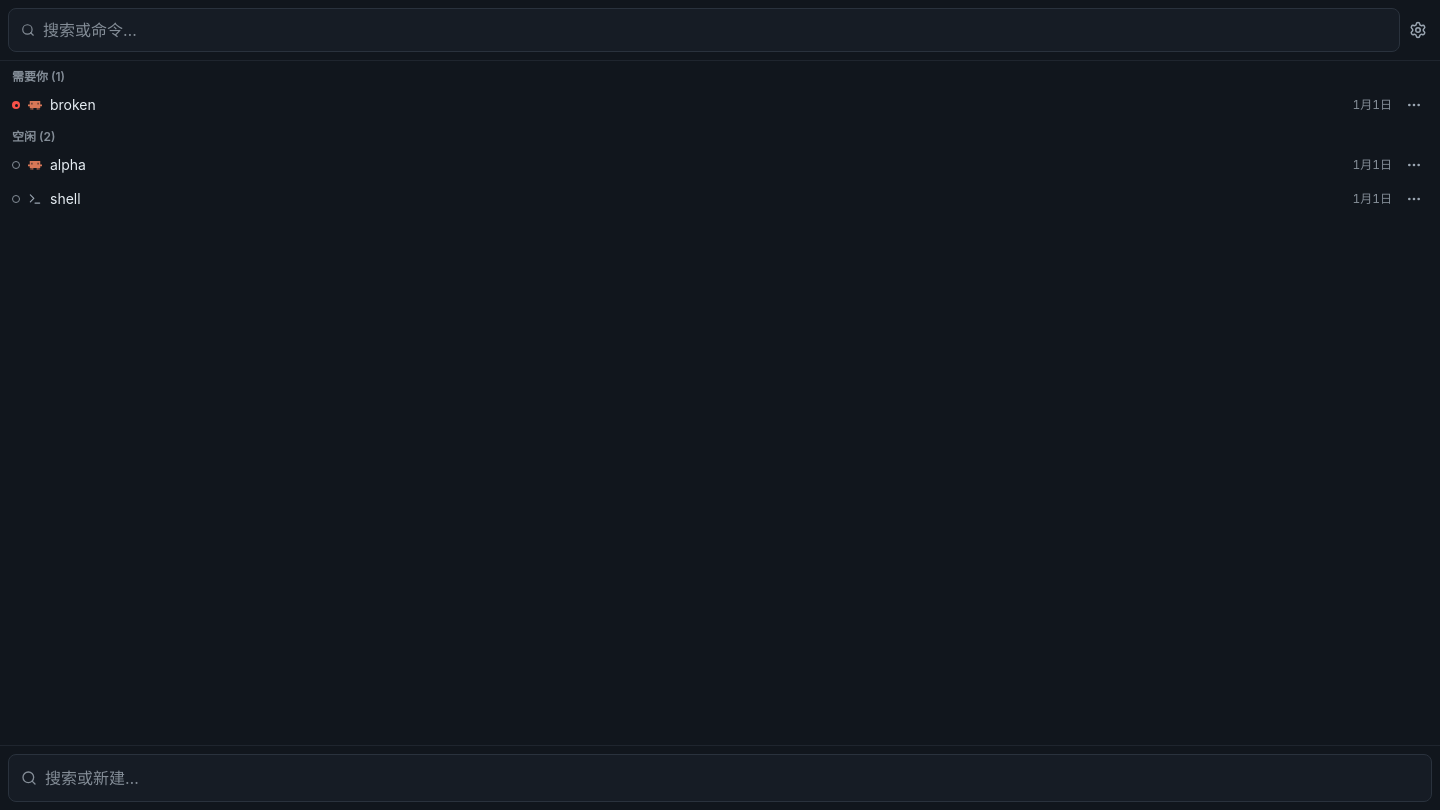
Test: AppShell › phone: opening ⌘K closes the ContextPanel sheet — never two modals (R13)
Click the text "alpha": (68,164) [50,156,86,173]
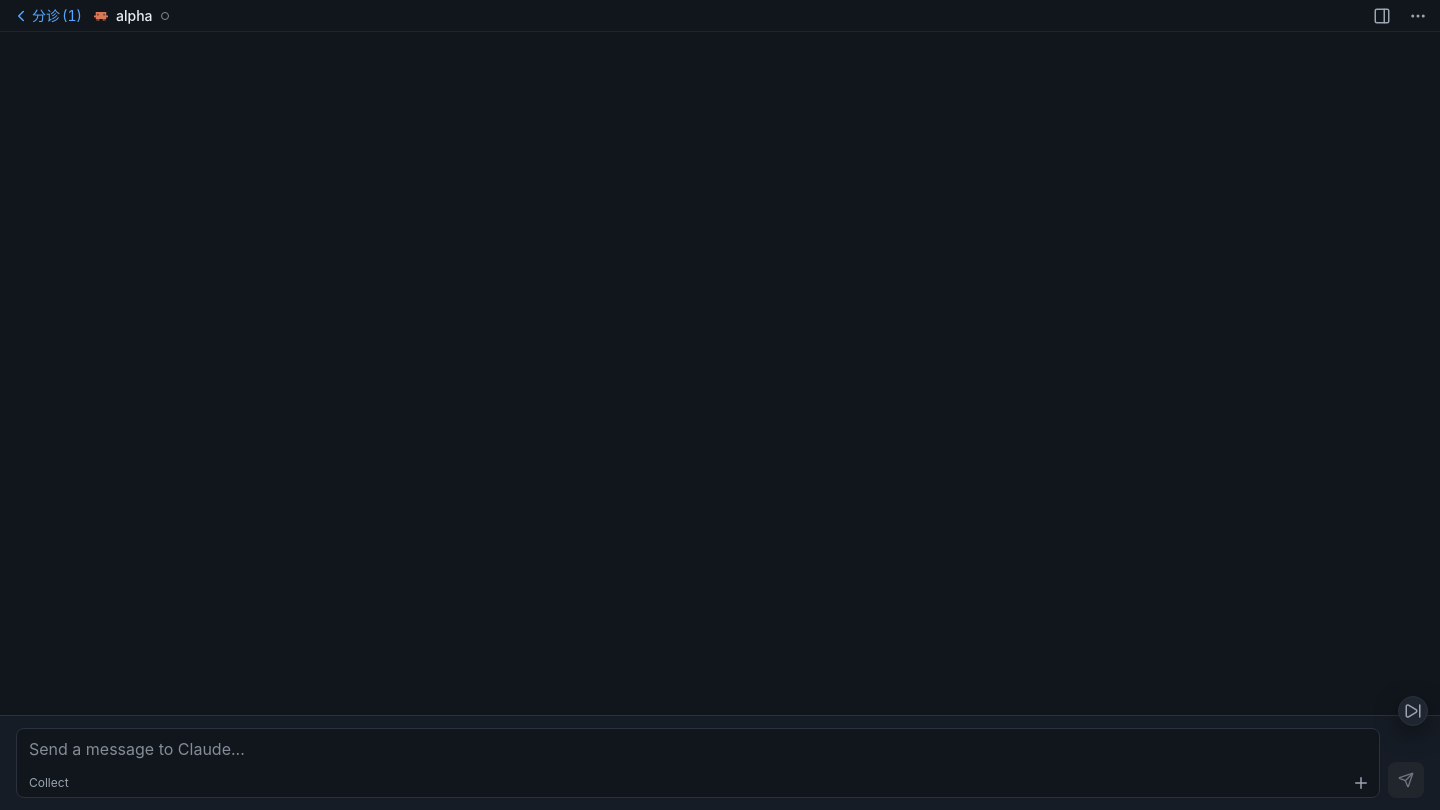
Click the button named "面板": (1382,16) [1368,2,1396,30]
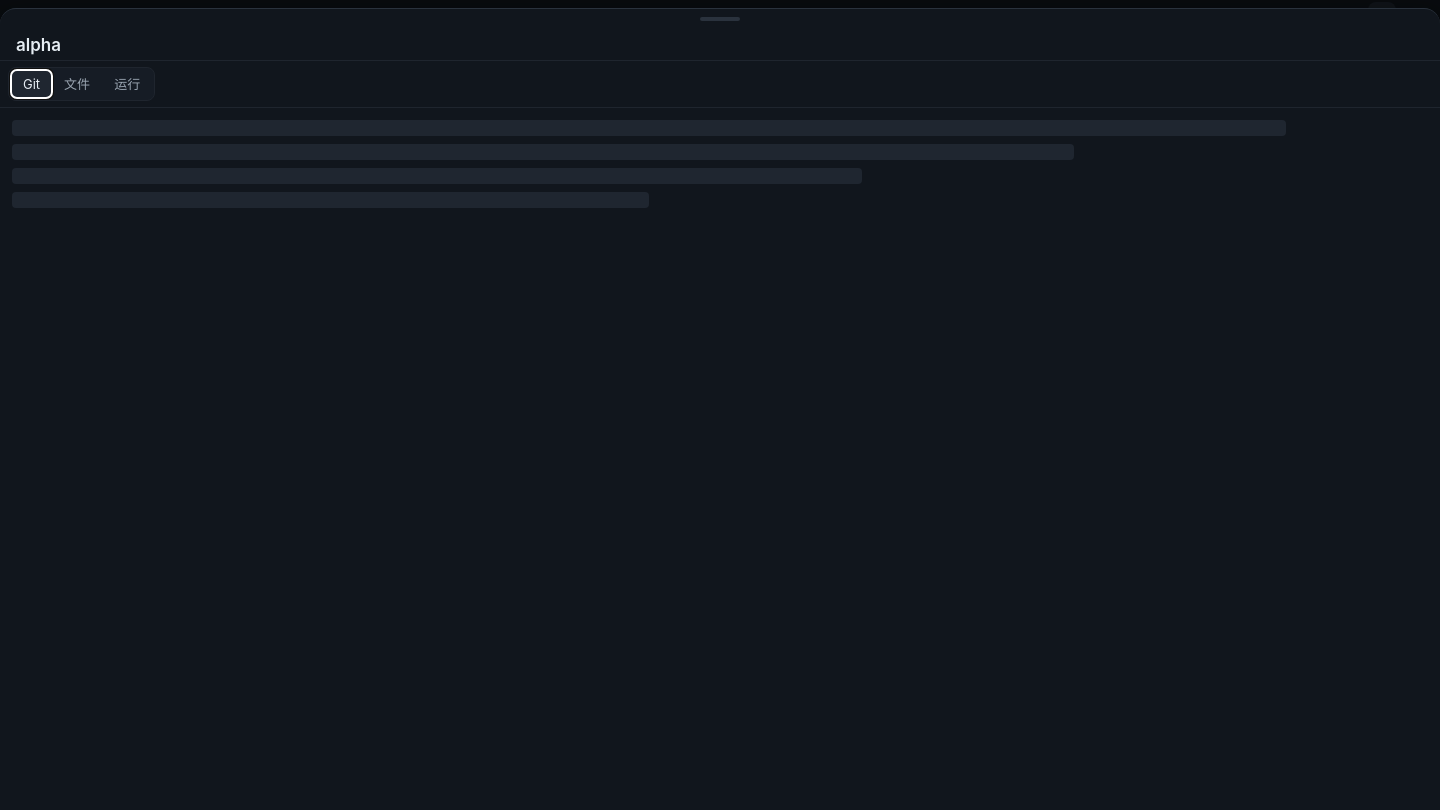
expect the number of dialogs is 1: met
Press k
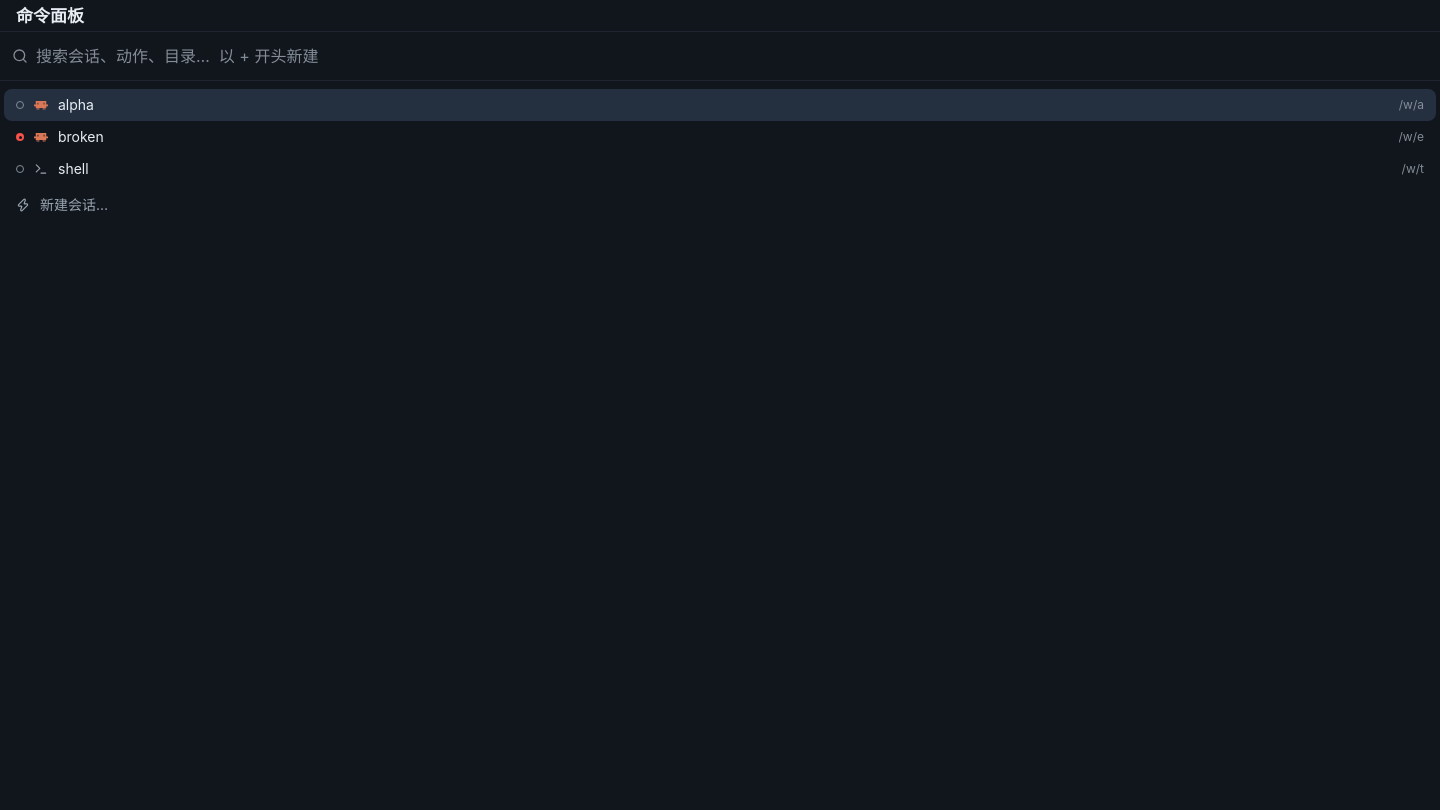
expect the number of dialogs is 1: met
expect the dropdown named "命令" is shown: met, box [36,32,1428,80]
